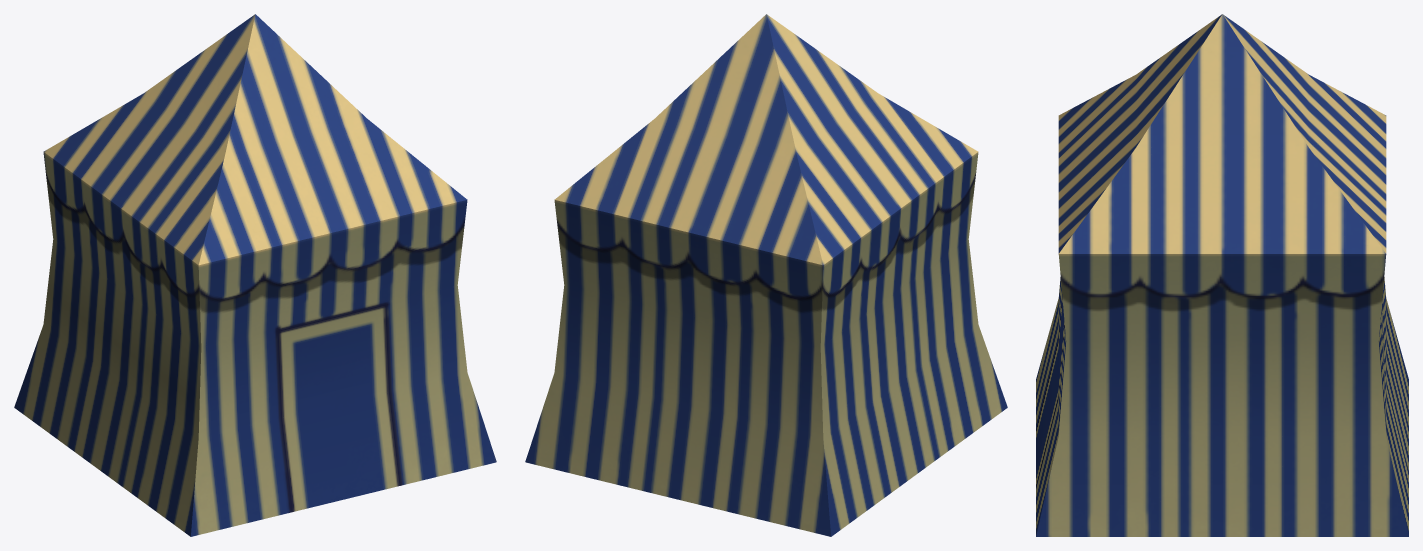
Rendered from arena_10.FBX.
The picture shows the model from 3 angles, left to right: view 1: azimuth 30°, elevation 25°; view 2: azimuth 150°, elevation 25°; view 3: azimuth 270°, elevation 25°; orthographic projection. The views are drawn at different scales.
Parts seen in each view (by area): view 1: Box011; view 2: Box011; view 3: Box011.
Part boxes in pixels (x1,y1,x2,y2): Box011: (14, 14, 496, 536); Box011: (525, 14, 1007, 536); Box011: (1036, 14, 1408, 536).
Bounding box in the file's own units: 389 × 512 × 389.
